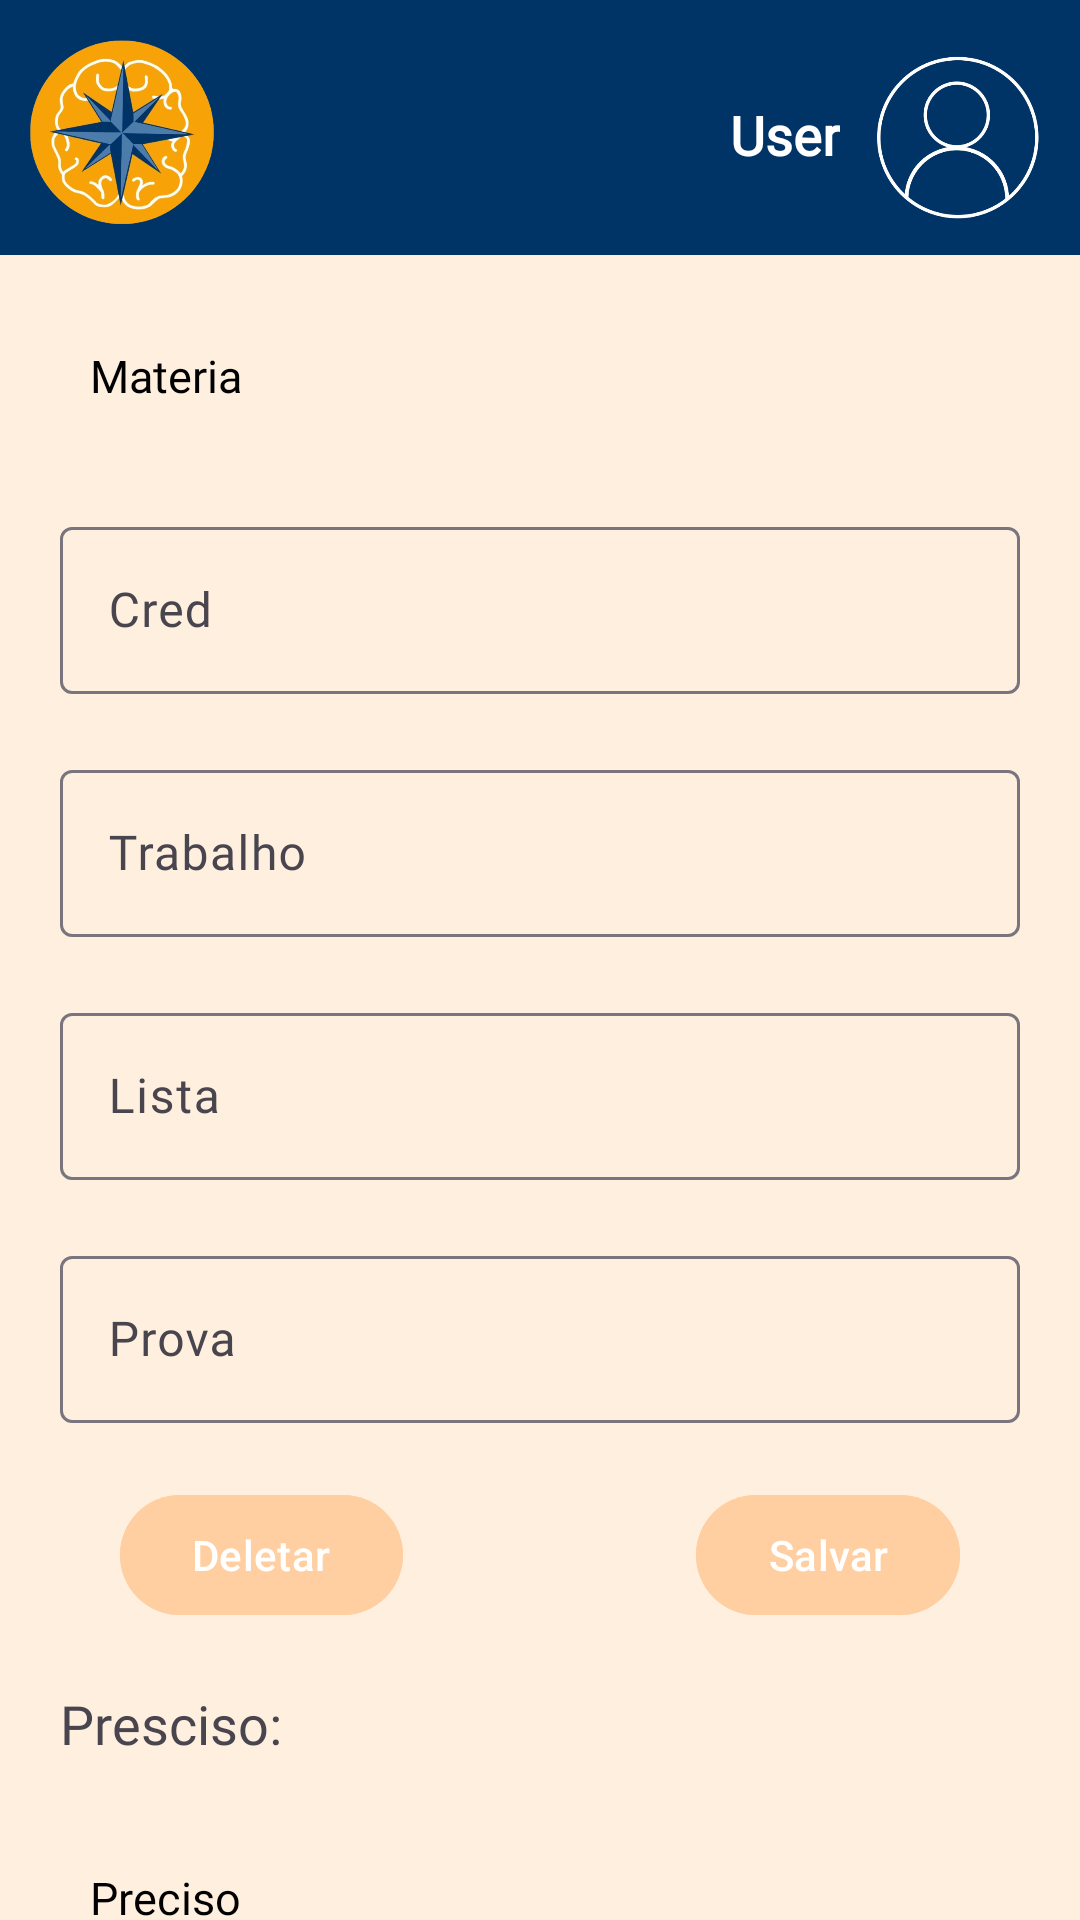

Locate icon controls on the screen. Image size 1080w x 1920h, boxes as (left=x1, top=y1, right=x2, bottom=y2).
perfil: (left=877, top=57, right=1039, bottom=219)
